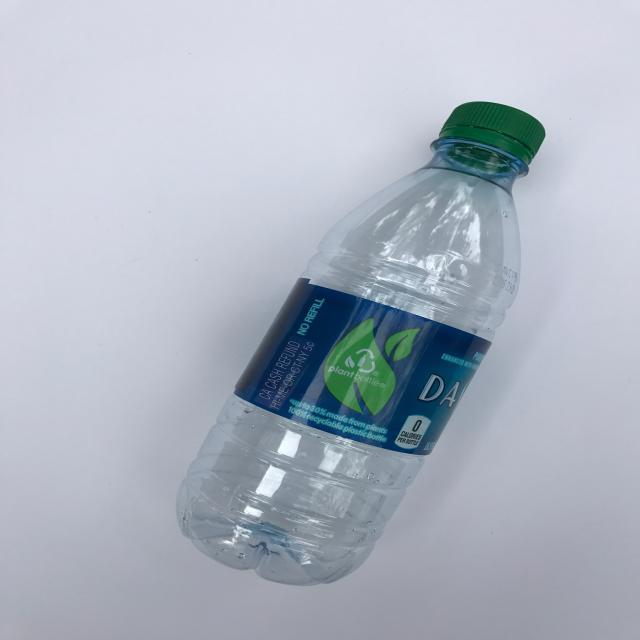plastic: (174, 100, 546, 587)
